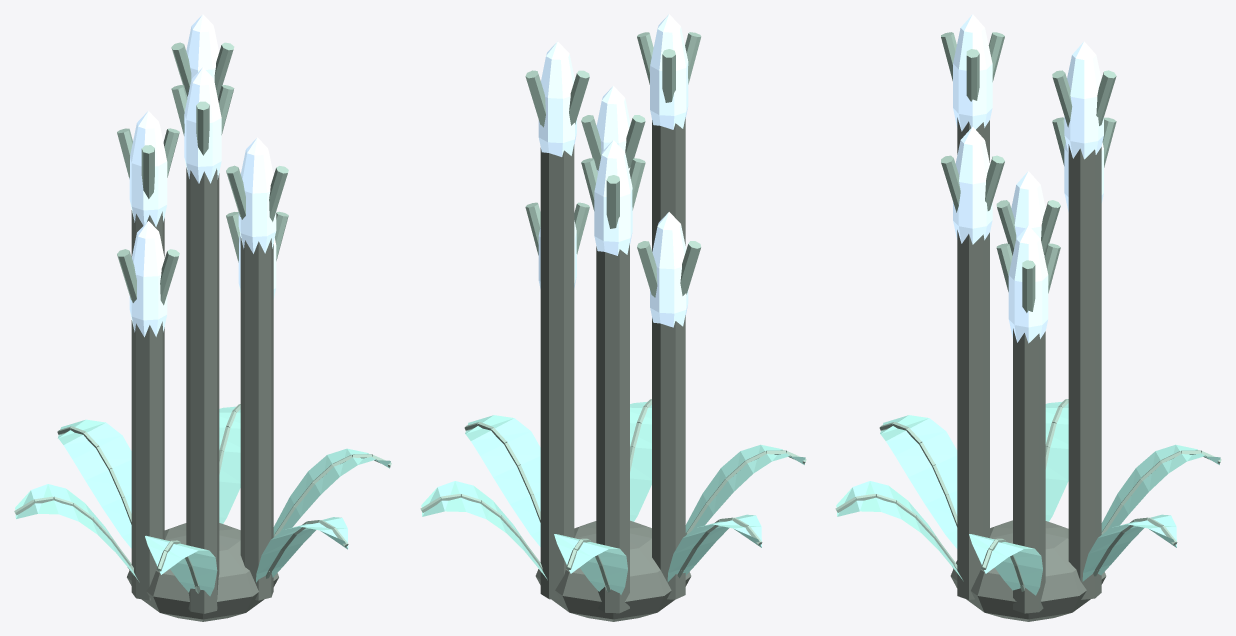
File: mineralreed-ready-for-transplant.glb
The picture shows the model from 3 angles, left to right: view 1: azimuth 30°, elevation 25°; view 2: azimuth 150°, elevation 25°; view 3: azimuth 270°, elevation 25°; orthographic projection. The views are drawn at different scales.
Visible parts, largest first — view 1: mineralreed.sway-pivot; view 2: mineralreed.sway-pivot; view 3: mineralreed.sway-pivot.
Boxes of the visible parts, box(x1,y1,x2,y2) form: mineralreed.sway-pivot: box(14, 14, 391, 621); mineralreed.sway-pivot: box(420, 14, 806, 621); mineralreed.sway-pivot: box(835, 14, 1221, 621).
Size of the model in its own units: 0.8594 by 1.4 by 0.8429.
